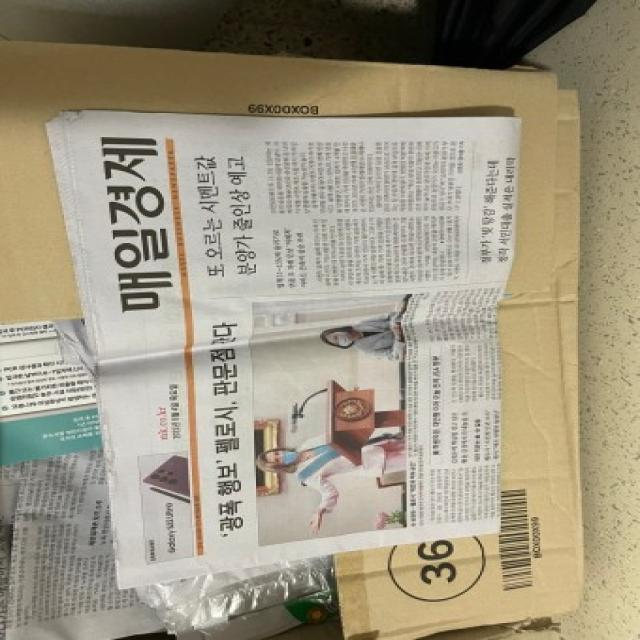Newspaper: (42, 115, 521, 586)
